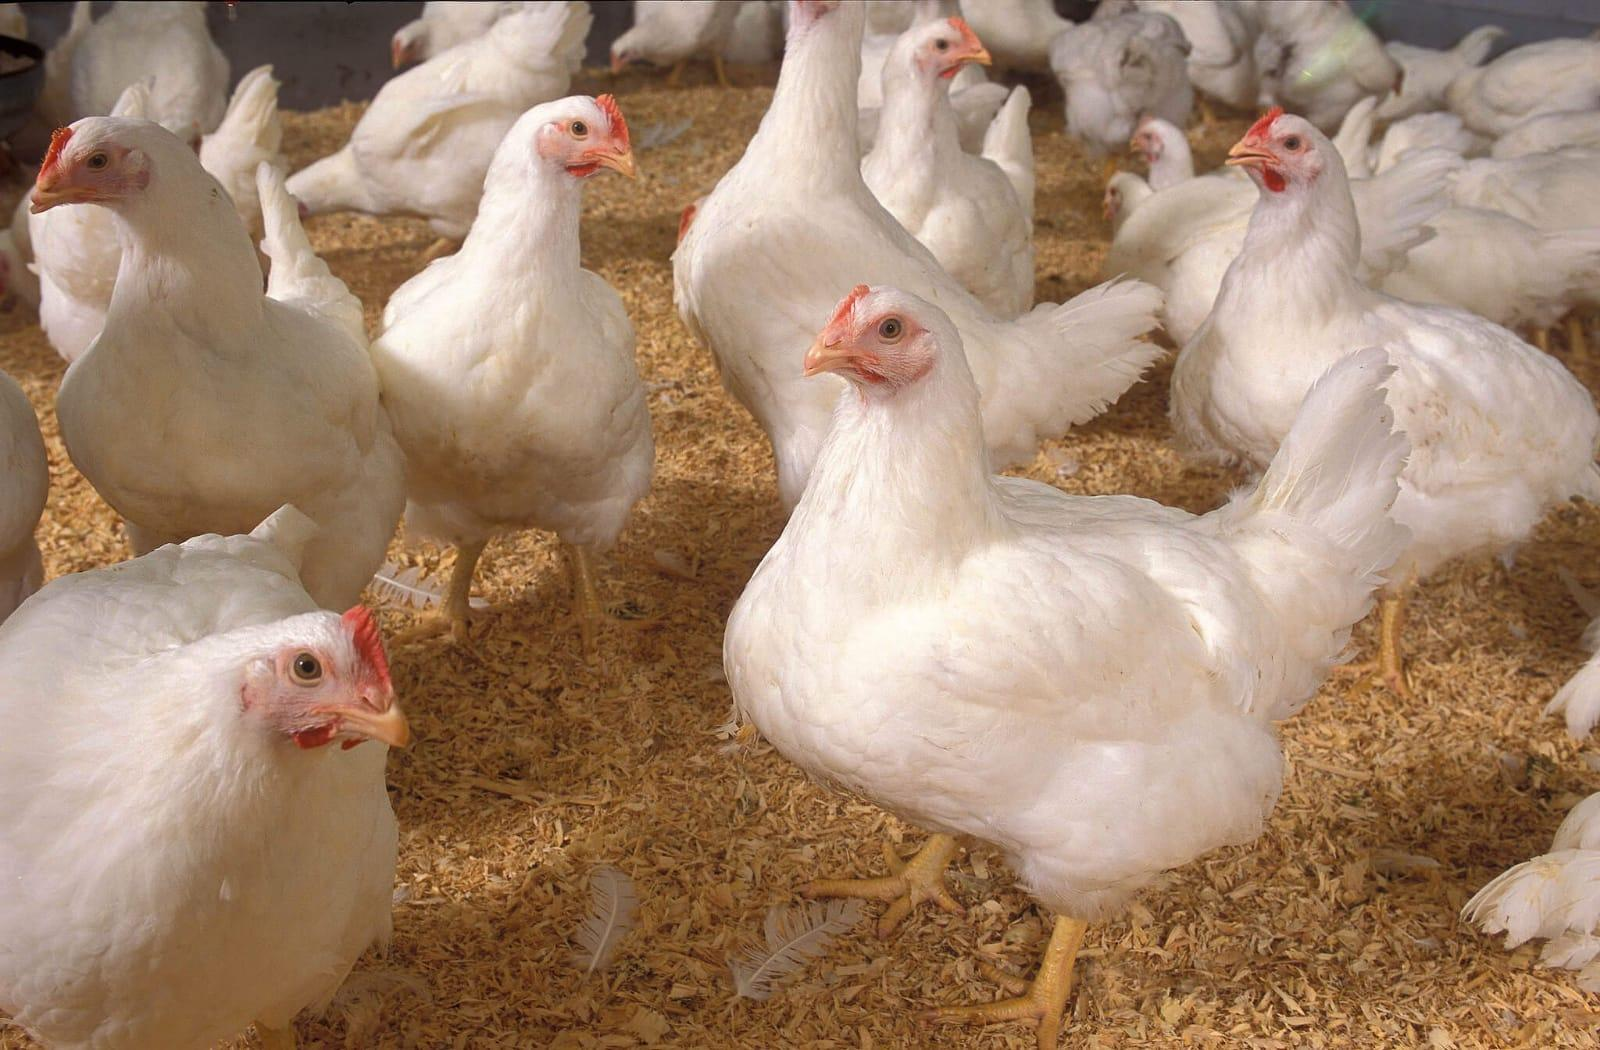Healthy: (700, 258, 1414, 1030), (9, 516, 454, 1039), (371, 77, 676, 629)
